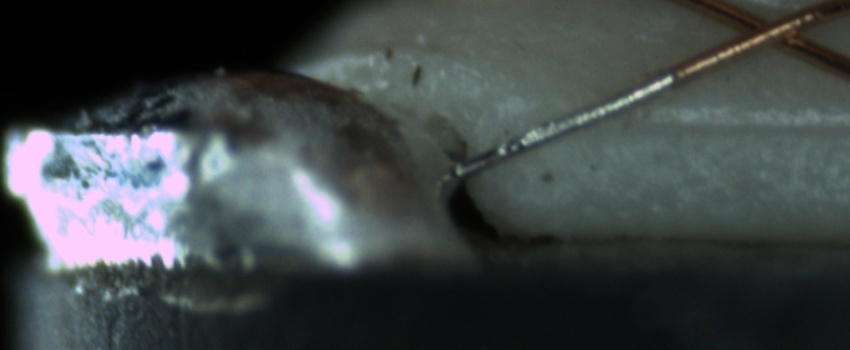CL: (715, 2, 823, 59)
DL: (620, 95, 846, 160)
TS: (449, 71, 671, 177)
